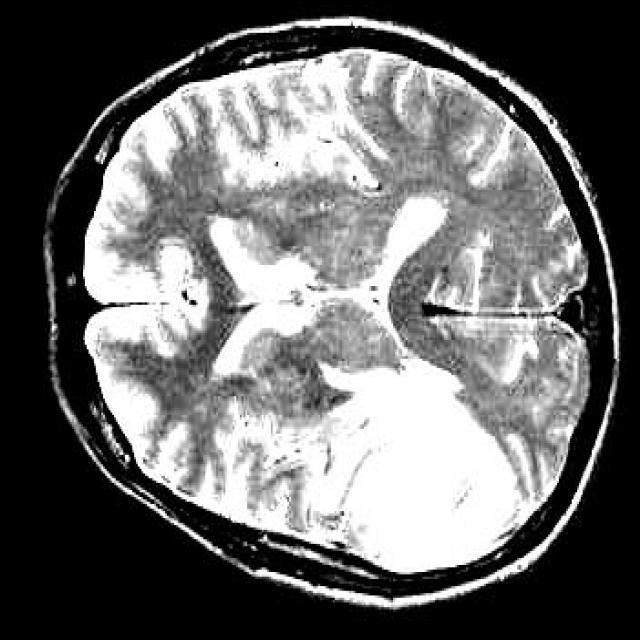tumor: (321, 359, 512, 574)
